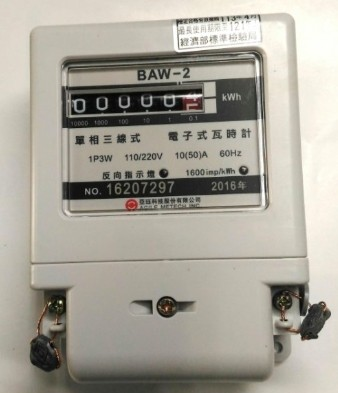show: (62, 81, 218, 119)
